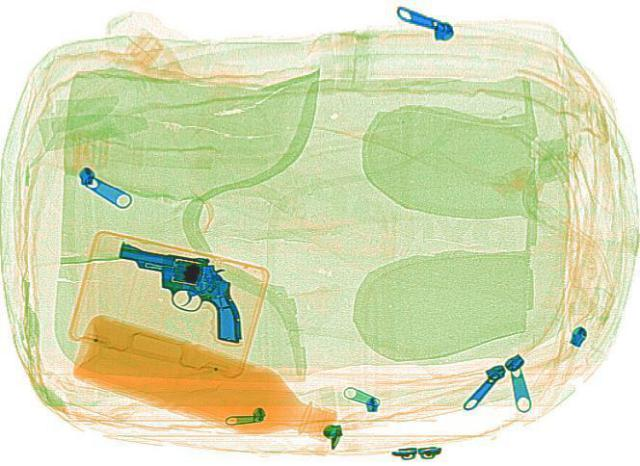Gun: (94, 242, 266, 342)
